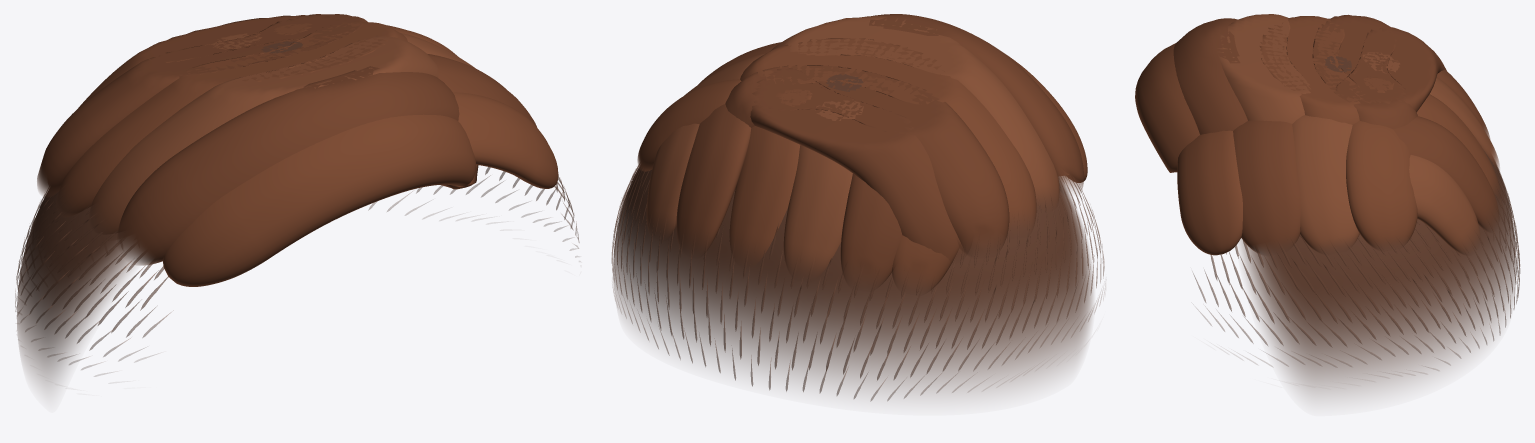
The model's file is Masculine-taper-bucket259-hair.glb.
3 views of the same model, side by side, from view 1: azimuth 30°, elevation 25°; view 2: azimuth 150°, elevation 25°; view 3: azimuth 270°, elevation 25° (orthographic). The views are drawn at different scales.
Visible parts, largest first — view 1: 226 hair / Hair258 / sculpted side sweep 1, 226 hair / Hair258 / sculpted side sweep 0, 226 hair / Hair258 / smooth side fade, 226 hair / Hair258 / sculpted side sweep 2, 226 hair / Hair259 / directional fade marks214; view 2: 226 hair / Hair258 / smooth side fade, 226 hair / Hair258 / sculpted side sweep 0, 226 hair / Hair258 / sculpted side sweep 1, 226 hair / Hair258 / sculpted side sweep 2, 226 hair / Hair259 / directional fade marks214; view 3: 226 hair / Hair258 / smooth side fade, 226 hair / Hair258 / sculpted side sweep 0, 226 hair / Hair258 / sculpted side sweep 1, 226 hair / Hair258 / sculpted side sweep 2, 226 hair / Hair259 / directional fade marks214.
Part boxes in pixels (left/top/right/bottom): 226 hair / Hair258 / sculpted side sweep 1: left=57, top=21, right=558, bottom=286; 226 hair / Hair258 / sculpted side sweep 0: left=37, top=14, right=536, bottom=265; 226 hair / Hair258 / smooth side fade: left=17, top=41, right=558, bottom=389; 226 hair / Hair258 / sculpted side sweep 2: left=89, top=33, right=475, bottom=234; 226 hair / Hair259 / directional fade marks214: left=15, top=167, right=579, bottom=376; 226 hair / Hair258 / smooth side fade: left=613, top=74, right=1092, bottom=395; 226 hair / Hair258 / sculpted side sweep 0: left=676, top=14, right=1083, bottom=288; 226 hair / Hair258 / sculpted side sweep 1: left=637, top=38, right=1087, bottom=292; 226 hair / Hair258 / sculpted side sweep 2: left=646, top=15, right=1059, bottom=278; 226 hair / Hair259 / directional fade marks214: left=611, top=164, right=1104, bottom=401; 226 hair / Hair258 / smooth side fade: left=1240, top=56, right=1516, bottom=397; 226 hair / Hair258 / sculpted side sweep 0: left=1173, top=14, right=1498, bottom=254; 226 hair / Hair258 / sculpted side sweep 1: left=1135, top=16, right=1500, bottom=255; 226 hair / Hair258 / sculpted side sweep 2: left=1216, top=14, right=1499, bottom=255; 226 hair / Hair259 / directional fade marks214: left=1193, top=159, right=1520, bottom=373.
Size of the model in its own units: 0.9743 by 0.6123 by 0.7585.
